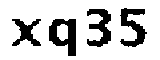3: (85, 4, 114, 48)
5: (119, 5, 149, 50)
q: (46, 17, 80, 58)
x: (10, 13, 43, 49)
